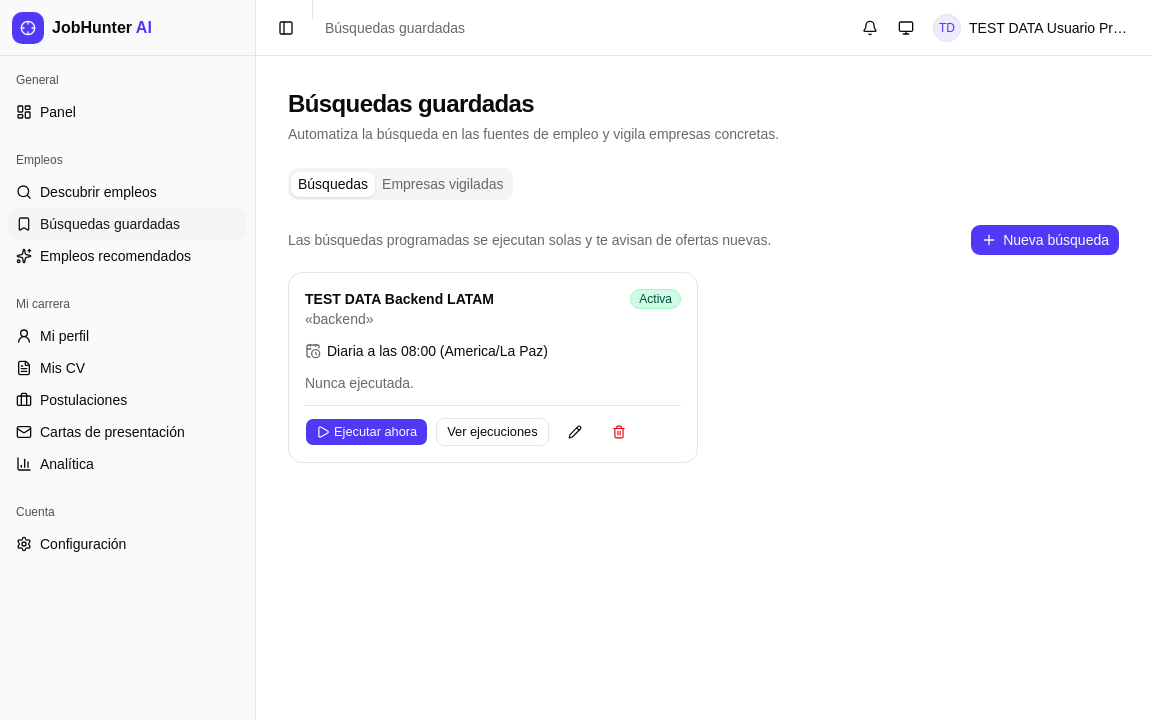
it: Búsquedas guardadas › runs a search and polls the execution until it finishes
Click the button "Ejecutar ahora". click: [367, 432]
box: [305,418,428,446]
(page scrolled)
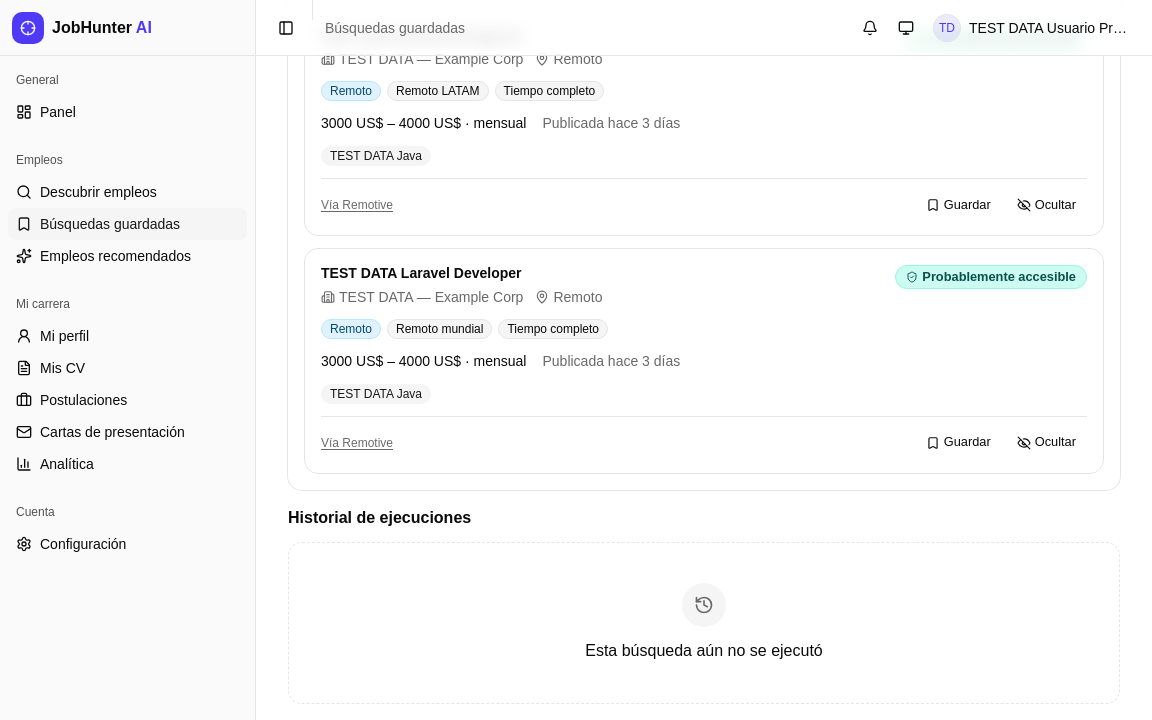
Expected: the element "TEST DATA Laravel Developer" is shown, [304,248,1104,474]
